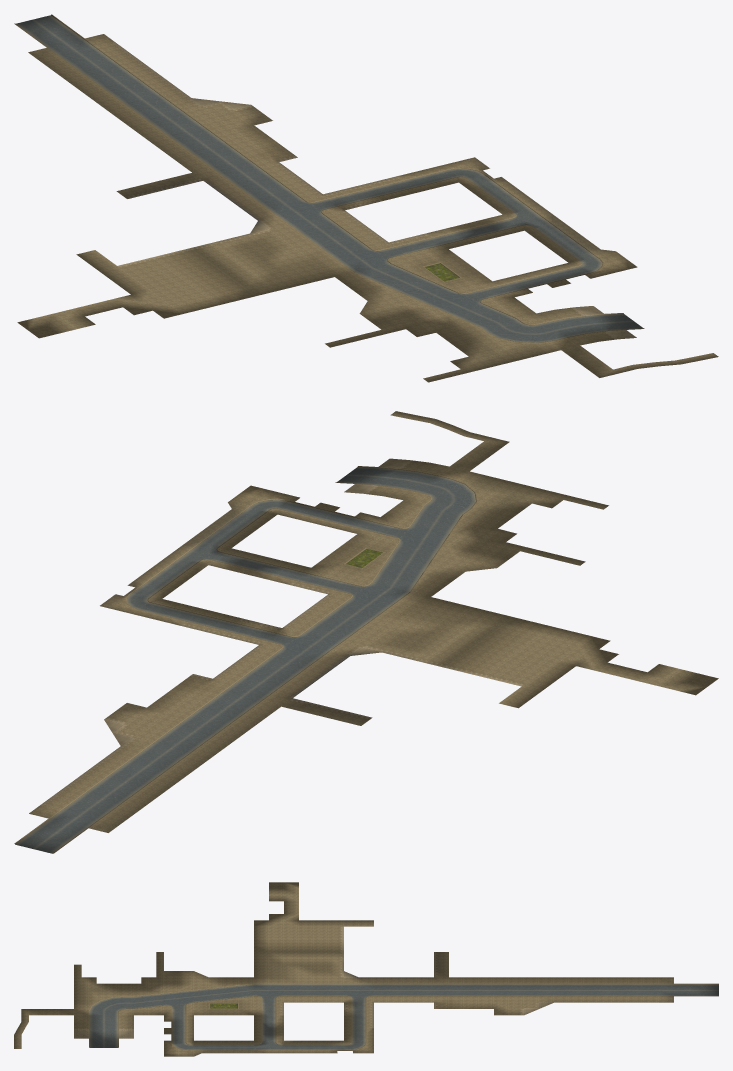
File: M2_Zone1.glb
3 views of the same model, one above another, from view 1: azimuth 30°, elevation 25°; view 2: azimuth 150°, elevation 25°; view 3: azimuth 270°, elevation 25° (orthographic). The views are drawn at different scales.
Parts seen in each view (by area): view 1: M2_ZONE1031, M2_ZONE1019, M2_ZONE1024, M2_ZONE1082, M2_ZONE1050, M2_ZONE1113, M2_ZONE1116, M2_ZONE1013, M2_ZONE1051, M2_ZONE1052, M2_ZONE1067, M2_ZONE1071 (+52 smaller); view 2: M2_ZONE1031, M2_ZONE1007, M2_ZONE1019, M2_ZONE1050, M2_ZONE1079, M2_ZONE1024, M2_ZONE1052, M2_ZONE1059, M2_ZONE1113, M2_ZONE1044, M2_ZONE1045, M2_ZONE1048 (+51 smaller); view 3: M2_ZONE1009, M2_ZONE1014, M2_ZONE1019, M2_ZONE1031, M2_ZONE1023, M2_ZONE1030, M2_ZONE1006, M2_ZONE1011, M2_ZONE1046, M2_ZONE1049, M2_ZONE1053, M2_ZONE1060 (+51 smaller).
Boxes of the visible parts, x1,y1,x2,y2 form: M2_ZONE1031: [405, 263, 472, 295]; M2_ZONE1019: [420, 309, 479, 336]; M2_ZONE1024: [436, 286, 494, 313]; M2_ZONE1082: [418, 162, 481, 186]; M2_ZONE1050: [370, 238, 429, 262]; M2_ZONE1113: [69, 54, 128, 79]; M2_ZONE1116: [47, 38, 106, 63]; M2_ZONE1013: [518, 309, 576, 334]; M2_ZONE1051: [408, 228, 467, 253]; M2_ZONE1052: [446, 219, 504, 244]; M2_ZONE1067: [98, 261, 157, 286]; M2_ZONE1071: [250, 224, 309, 249]; M2_ZONE1031: [346, 539, 416, 568]; M2_ZONE1007: [449, 471, 509, 497]; M2_ZONE1019: [431, 514, 502, 541]; M2_ZONE1050: [308, 572, 370, 598]; M2_ZONE1079: [239, 623, 301, 649]; M2_ZONE1024: [378, 522, 448, 548]; M2_ZONE1052: [229, 553, 290, 579]; M2_ZONE1059: [485, 638, 547, 664]; M2_ZONE1113: [72, 785, 134, 811]; M2_ZONE1044: [548, 631, 610, 657]; M2_ZONE1045: [508, 621, 570, 647]; M2_ZONE1048: [388, 592, 450, 618]; M2_ZONE1009: [74, 1022, 103, 1038]; M2_ZONE1014: [104, 1022, 133, 1038]; M2_ZONE1019: [134, 983, 163, 999]; M2_ZONE1031: [194, 994, 235, 1008]; M2_ZONE1023: [164, 983, 193, 998]; M2_ZONE1030: [194, 983, 223, 1000]; M2_ZONE1006: [74, 983, 103, 996]; M2_ZONE1011: [104, 983, 133, 996]; M2_ZONE1046: [254, 945, 283, 958]; M2_ZONE1049: [254, 983, 283, 996]; M2_ZONE1053: [254, 1034, 283, 1047]; M2_ZONE1060: [284, 945, 313, 958].
Bounding box in the file's own units: 110 × 2.12 × 188.
16 materials, 16 textured.
